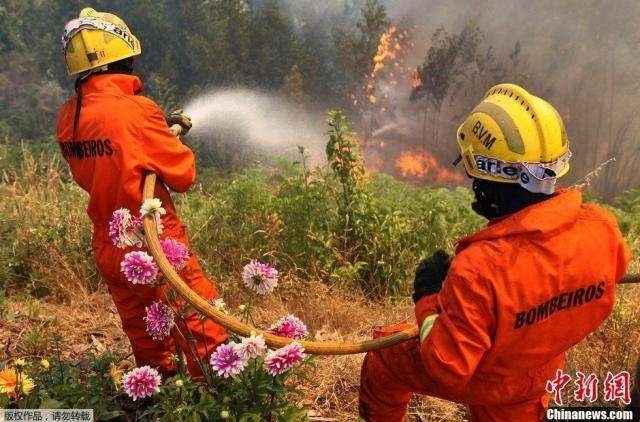fire: (356, 23, 423, 106), (392, 145, 456, 182)
